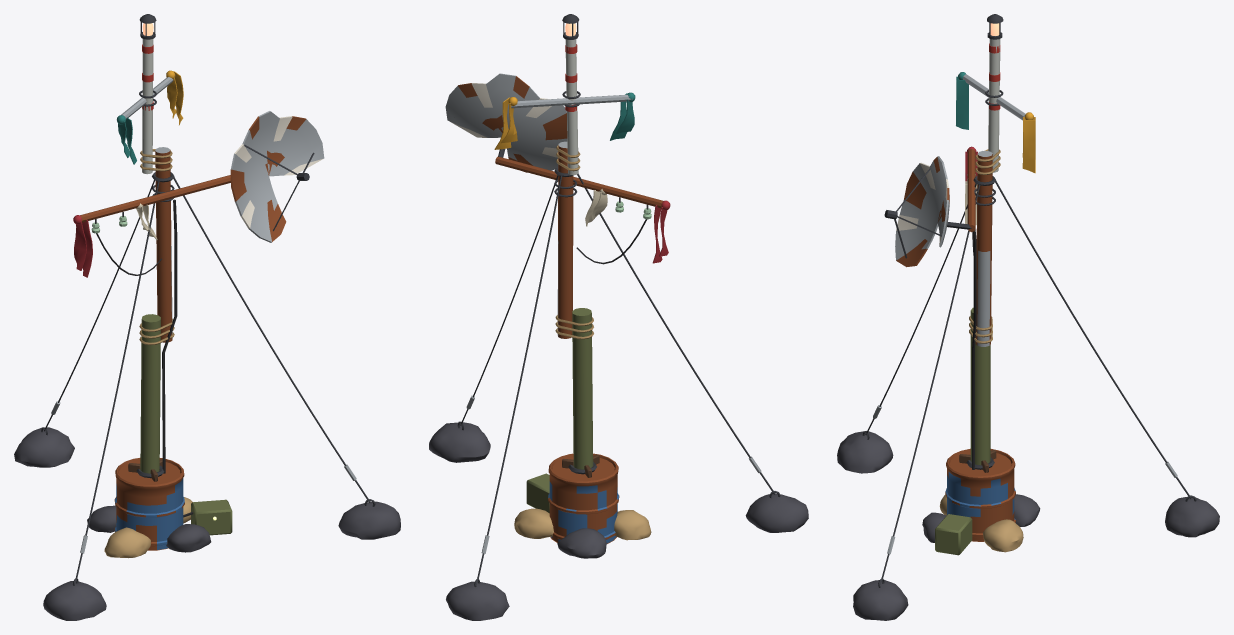
The model's file is deco_salvage_junk_antenna.fbx.
3 views of the same model, side by side, from view 1: azimuth 30°, elevation 25°; view 2: azimuth 150°, elevation 25°; view 3: azimuth 270°, elevation 25° (orthographic).
Parts seen in each view (by area): view 1: Salvage_JunkAntenna_Mast, Salvage_JunkAntenna_Guys, Salvage_JunkAntenna_Dish, Salvage_JunkAntenna_Arms; view 2: Salvage_JunkAntenna_Mast, Salvage_JunkAntenna_Guys, Salvage_JunkAntenna_Dish, Salvage_JunkAntenna_Arms; view 3: Salvage_JunkAntenna_Mast, Salvage_JunkAntenna_Guys, Salvage_JunkAntenna_Dish, Salvage_JunkAntenna_Arms.
Part boxes in pixels (<box>): Salvage_JunkAntenna_Mast: <box>87,39,232,558</box>; Salvage_JunkAntenna_Guys: <box>14,172,400,620</box>; Salvage_JunkAntenna_Dish: <box>230,111,324,242</box>; Salvage_JunkAntenna_Arms: <box>73,70,230,277</box>; Salvage_JunkAntenna_Mast: <box>514,39,651,558</box>; Salvage_JunkAntenna_Guys: <box>429,167,808,620</box>; Salvage_JunkAntenna_Dish: <box>445,73,567,172</box>; Salvage_JunkAntenna_Arms: <box>494,91,670,264</box>; Salvage_JunkAntenna_Mast: <box>922,39,1040,555</box>; Salvage_JunkAntenna_Guys: <box>837,176,1219,620</box>; Salvage_JunkAntenna_Dish: <box>884,156,971,267</box>; Salvage_JunkAntenna_Arms: <box>956,72,1035,255</box>.
Size of the model in its own units: 460 by 631 by 425.
